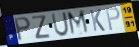K: (89, 8, 107, 32)
M: (66, 9, 91, 37)
P: (13, 16, 32, 43), (105, 6, 121, 32)
U: (51, 11, 70, 37)
Z: (32, 15, 52, 40)
